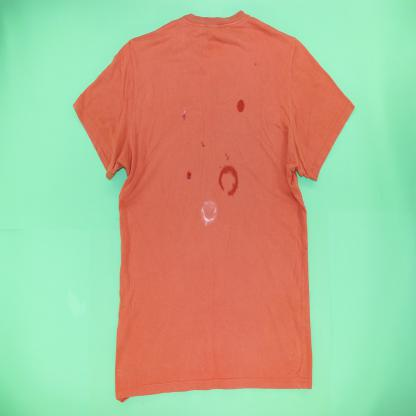stain: (216, 150, 240, 199), (199, 197, 220, 229), (235, 96, 246, 113), (184, 168, 193, 183), (180, 108, 188, 123), (199, 137, 208, 150)
